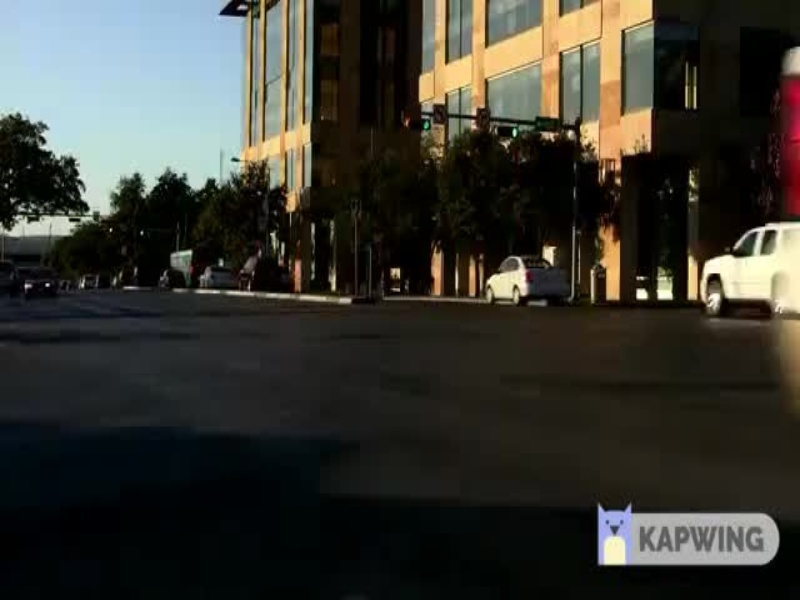car: (465, 250, 574, 309)
